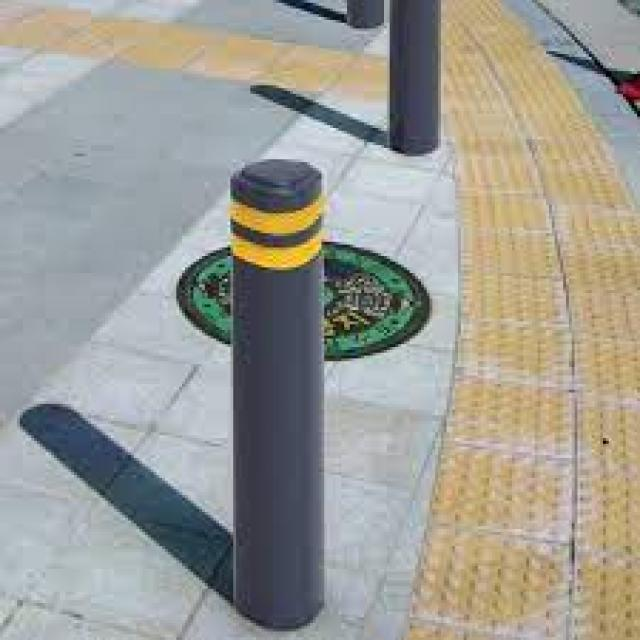bollard: (224, 153, 338, 631), (383, 0, 452, 156), (338, 0, 385, 39)
